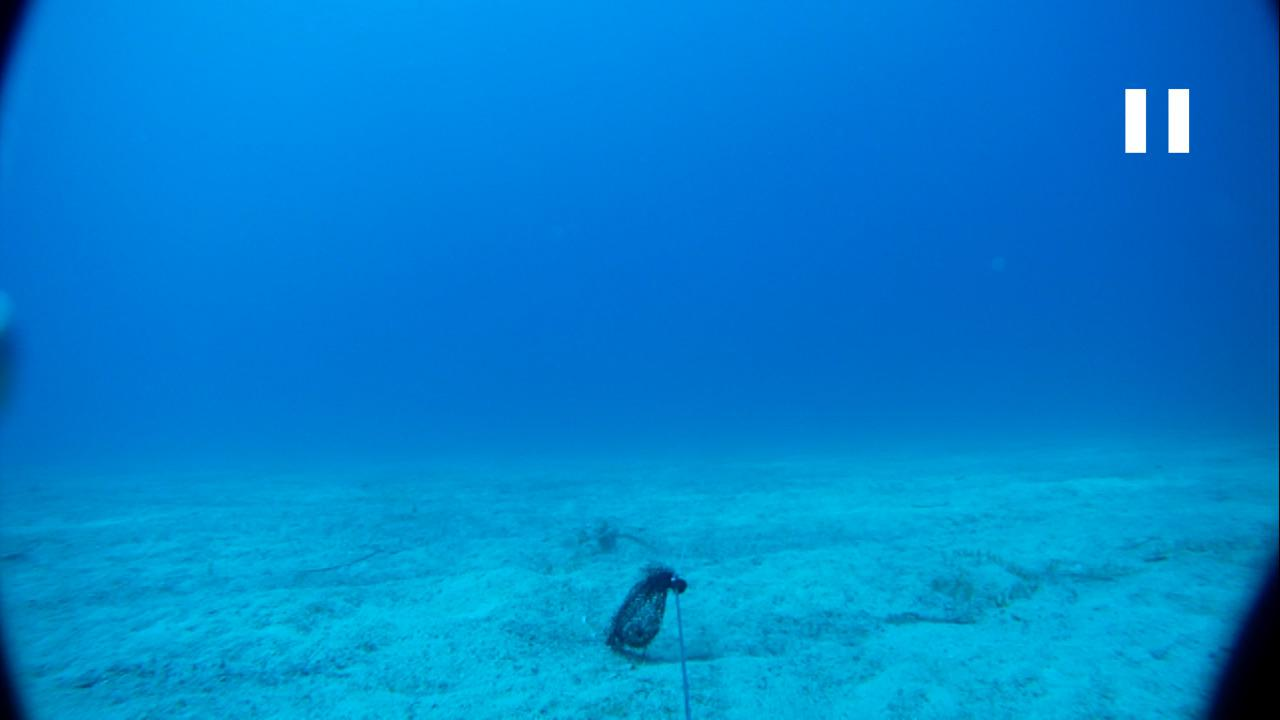dactylopterus: (547, 509, 640, 563)
